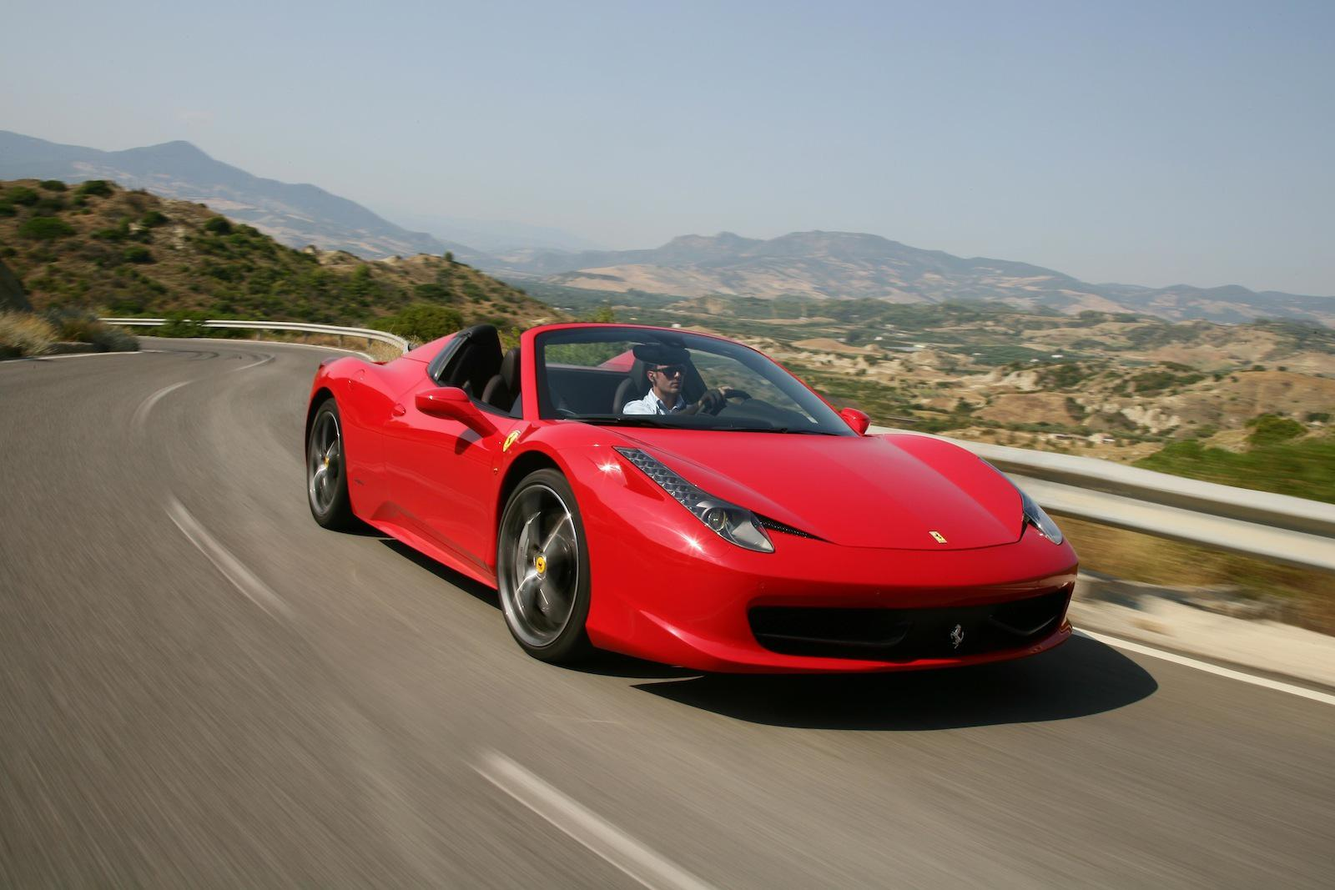Car: (279, 239, 1138, 756)
